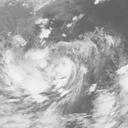cyclone: (40, 47, 78, 90)
